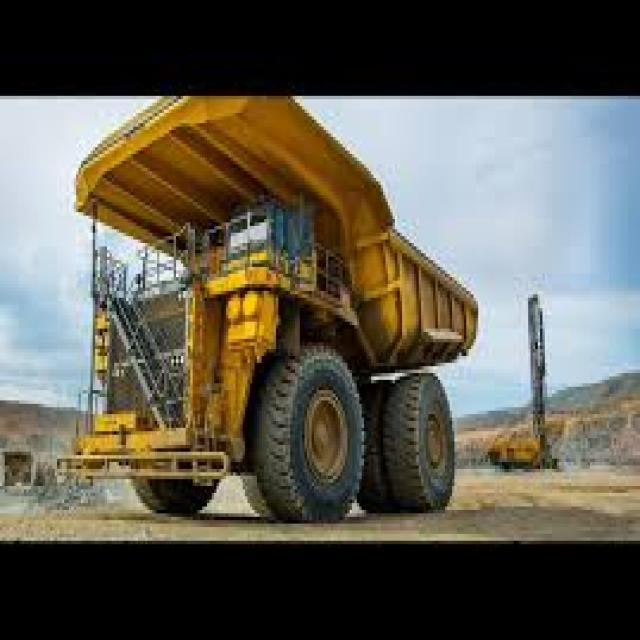dump_truck: (62, 96, 485, 534)
